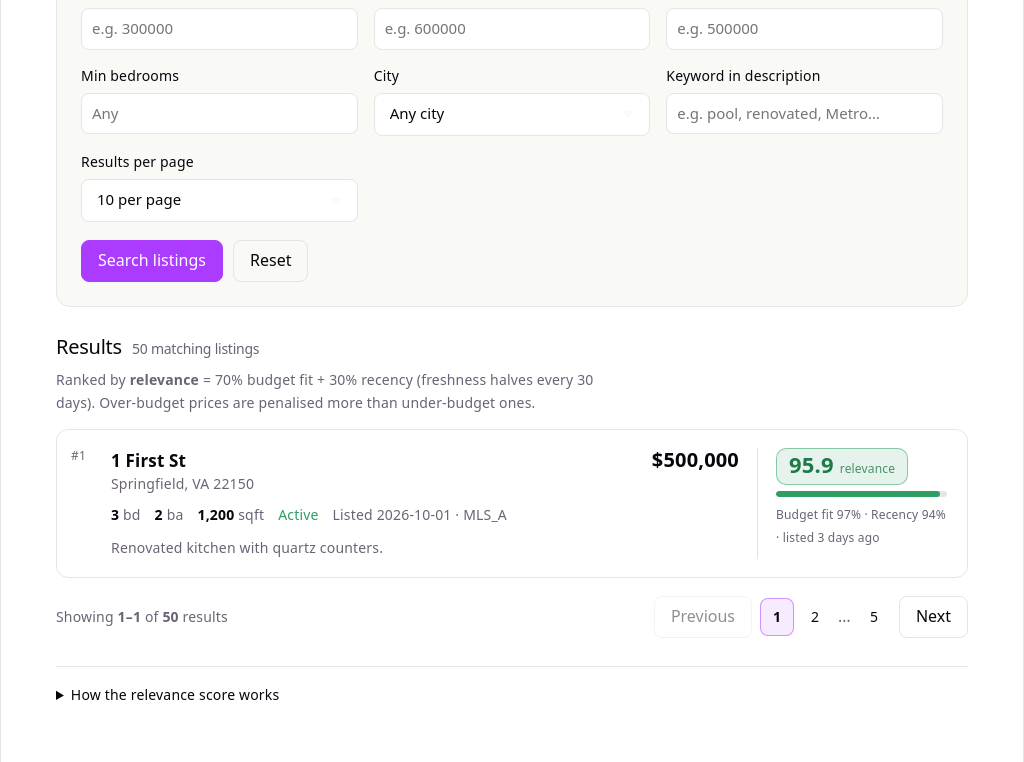
Test: App — empty, out-of-range, and error states › offers "Go to last page" when results shrink below the current page
(page scrolled)
Check: the text "1 First St" is shown, box [111,449,186,472]
Click the button "Next".
click(933, 617)  # box [899,596,968,638]
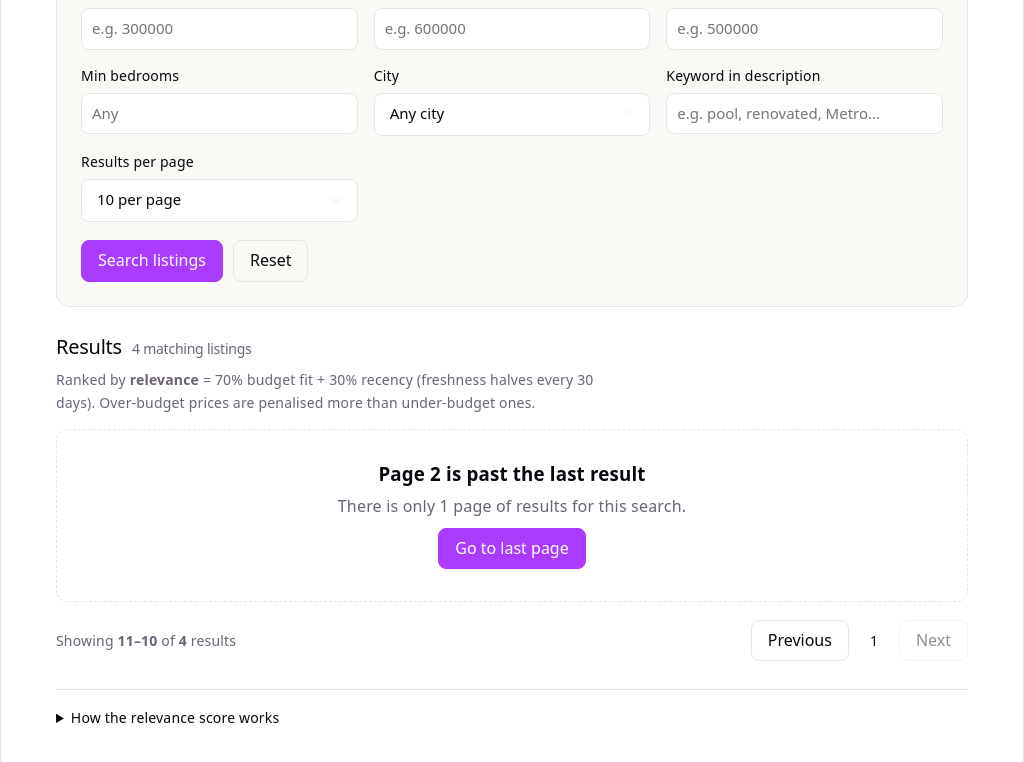
Check: the heading "Page 2 is past the last result" is shown, box [378,462,646,485]
Click the button "Go to last page".
click(512, 549)  # box [438,528,586,569]
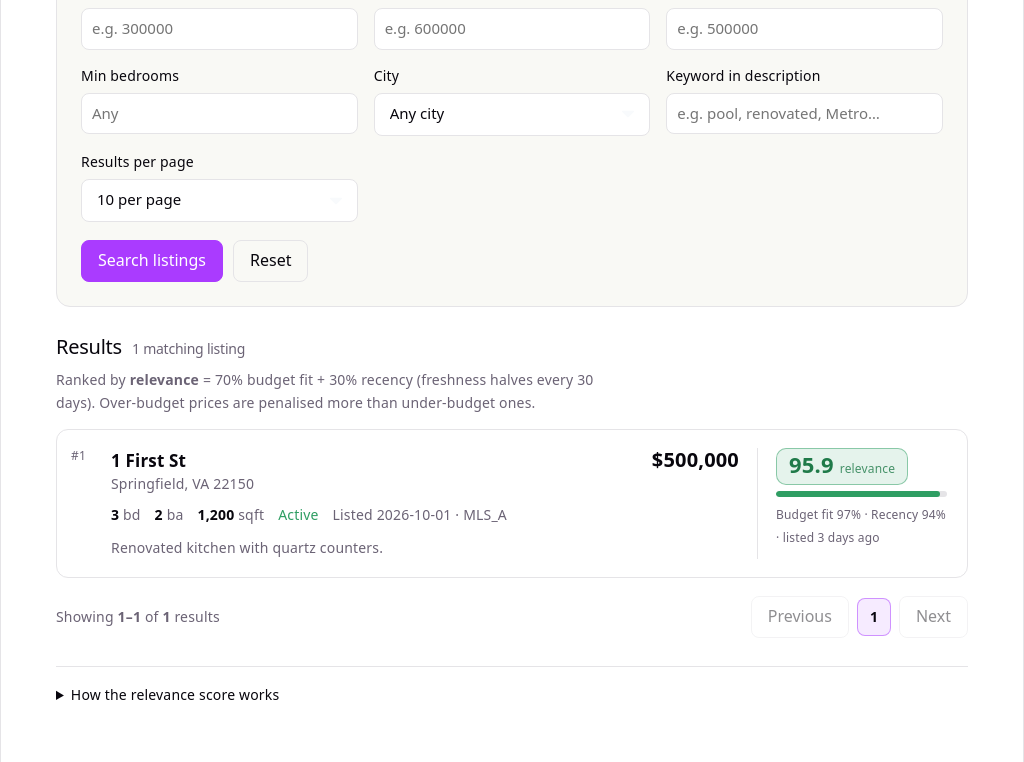
Check: the text "1 First St" is shown, box [111,449,186,472]
